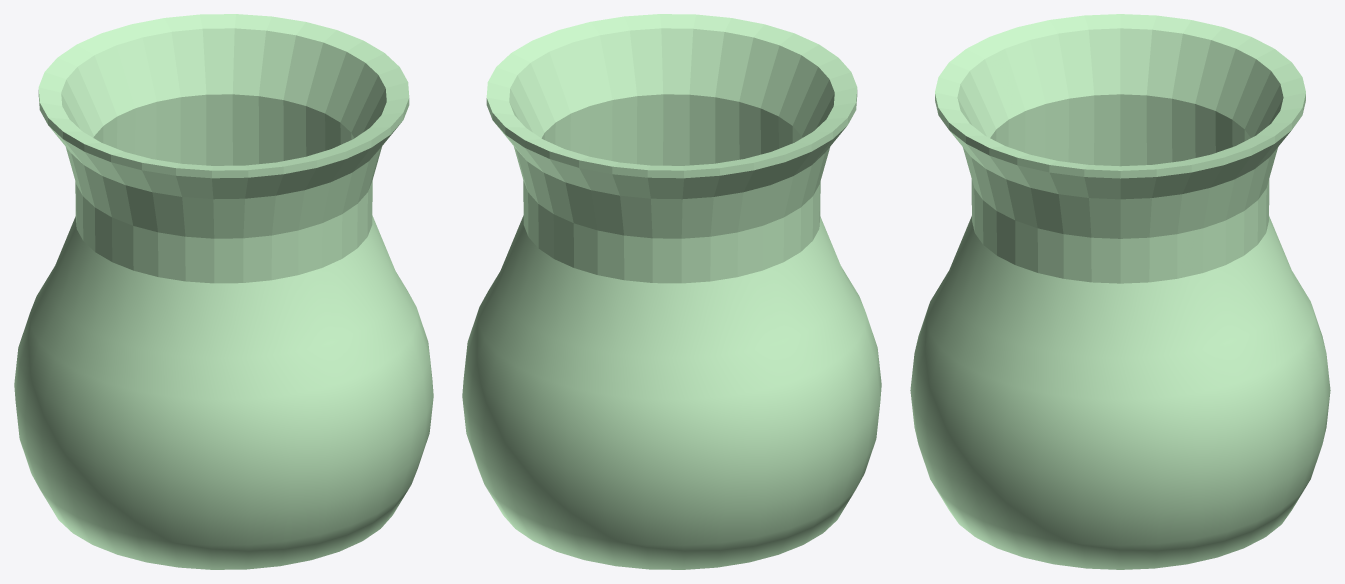
Rendered from vase.fbx.
The picture shows the model from 3 angles, left to right: view 1: azimuth 30°, elevation 25°; view 2: azimuth 150°, elevation 25°; view 3: azimuth 270°, elevation 25°; orthographic projection.
Parts seen in each view (by area): view 1: vase; view 2: vase; view 3: vase.
Boxes of the visible parts, x1=… form: vase: x1=14, y1=14, x2=433, y2=569; vase: x1=462, y1=14, x2=881, y2=569; vase: x1=910, y1=14, x2=1330, y2=569.
Size of the model in its own units: 84.85 by 90.3 by 84.85.
